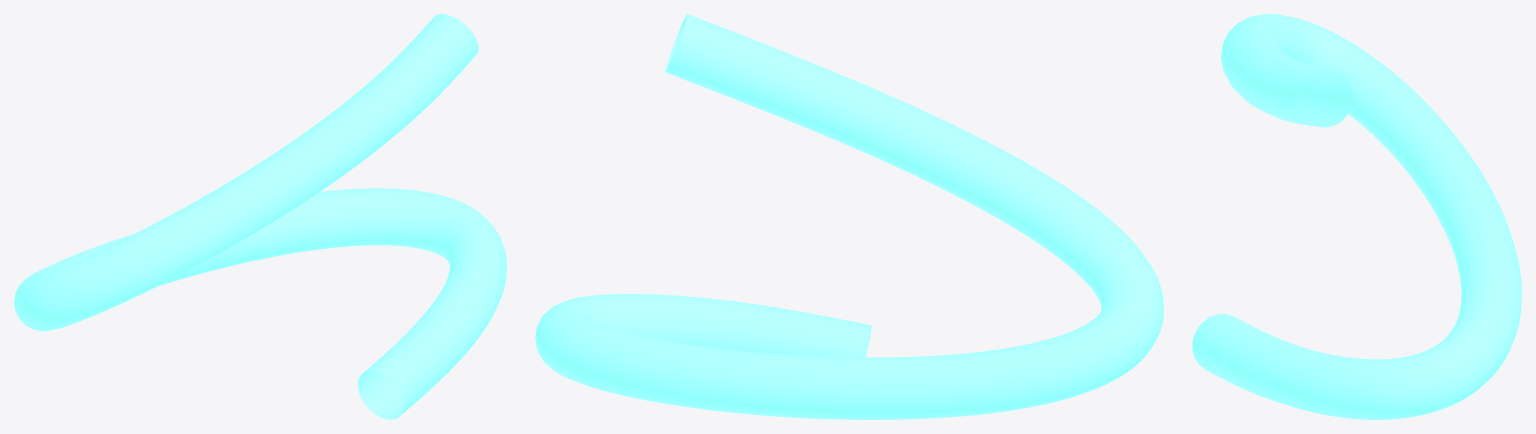
The model's file is studio-ribbon.glb.
The picture shows the model from 3 angles, left to right: view 1: azimuth 30°, elevation 25°; view 2: azimuth 150°, elevation 25°; view 3: azimuth 270°, elevation 25°; orthographic projection. The views are drawn at different scales.
Visible parts, largest first — view 1: StudioSculpture; view 2: StudioSculpture; view 3: StudioSculpture.
Part boxes in pixels (x1=…): StudioSculpture: x1=14, y1=14, x2=506, y2=419; StudioSculpture: x1=535, y1=14, x2=1163, y2=419; StudioSculpture: x1=1192, y1=14, x2=1521, y2=419.
Size of the model in its own units: 5.5 by 3.51 by 2.89.
